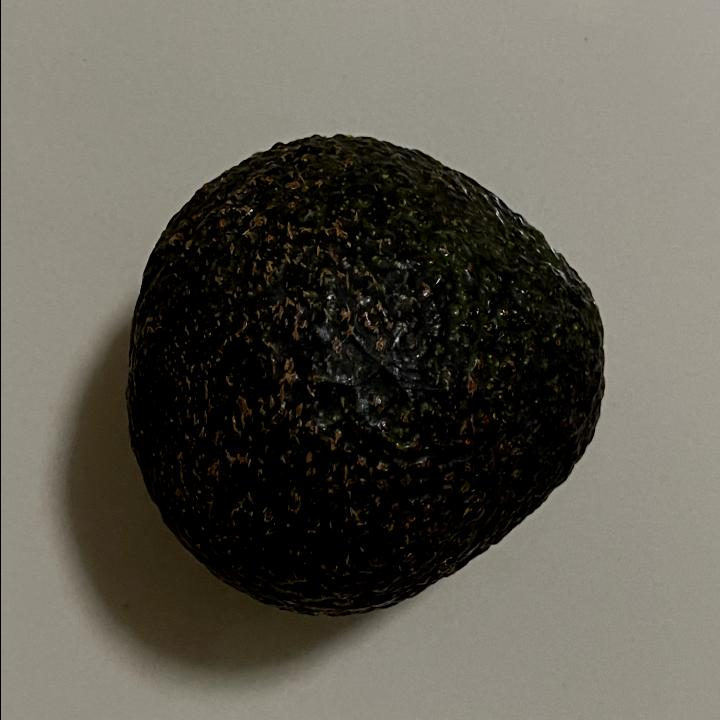Level1: (114, 118, 616, 630)
